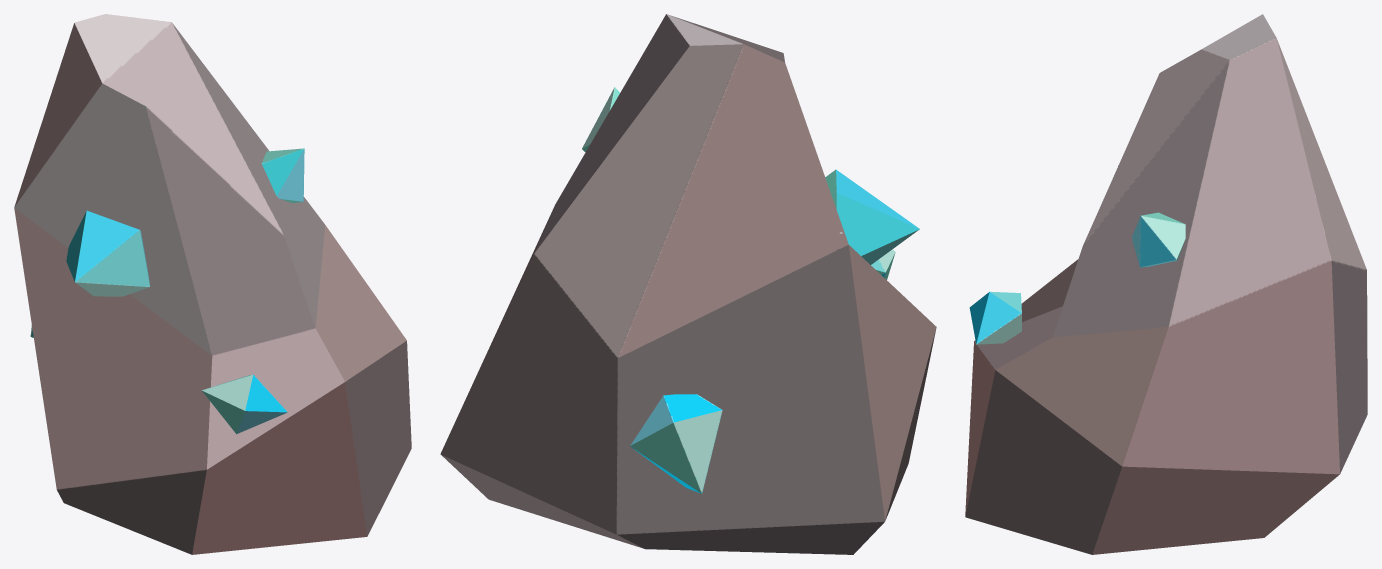
The model's file is minerioA-2.fbx.
3 views of the same model, side by side, from view 1: azimuth 30°, elevation 25°; view 2: azimuth 150°, elevation 25°; view 3: azimuth 270°, elevation 25° (orthographic). The views are drawn at different scales.
Parts seen in each view (by area): view 1: minerioA-2; view 2: minerioA-2; view 3: minerioA-2.
Boxes of the visible parts, box(x1,y1,x2,y2) form: minerioA-2: box(14, 14, 411, 554); minerioA-2: box(440, 14, 936, 554); minerioA-2: box(965, 14, 1367, 554).
Bounding box in the file's own units: 128 × 161 × 135.
